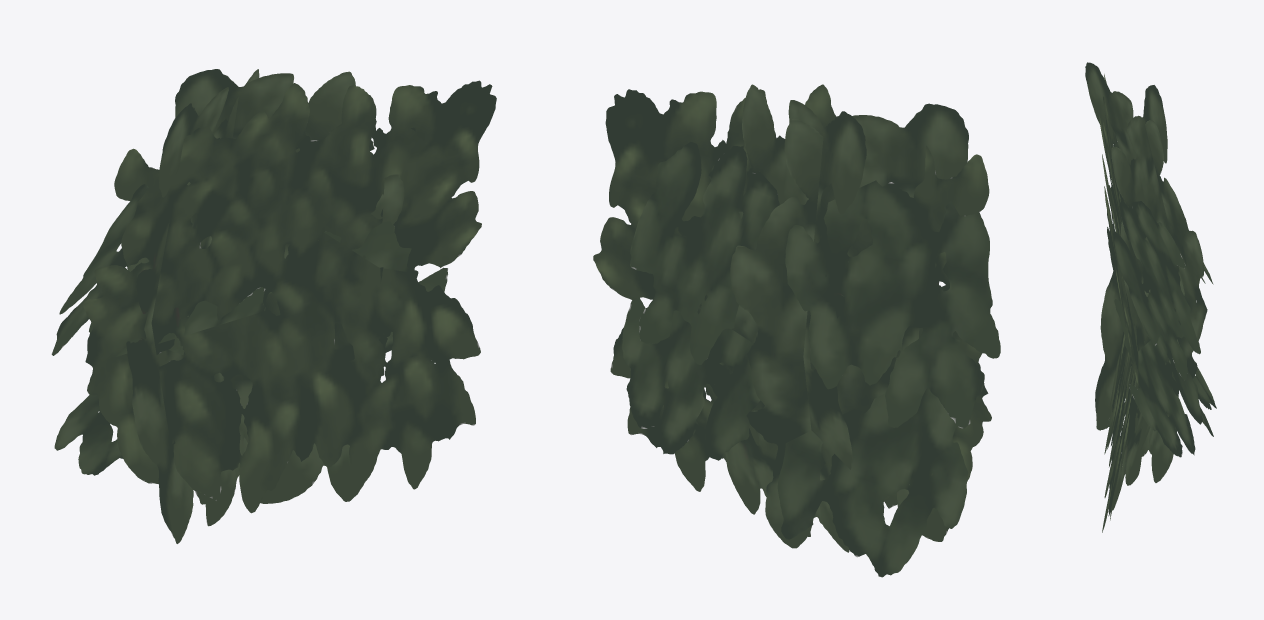
The model's file is ivy-02.fbx.
3 views of the same model, side by side, from view 1: azimuth 30°, elevation 25°; view 2: azimuth 150°, elevation 25°; view 3: azimuth 270°, elevation 25° (orthographic). The views are drawn at different scales.
Parts seen in each view (by area): view 1: ivy_02; view 2: ivy_02; view 3: ivy_02.
Boxes of the visible parts, box(x1,y1,x2,y2) form: ivy_02: box(51, 69, 496, 543); ivy_02: box(593, 84, 1000, 577); ivy_02: box(1085, 62, 1216, 532).
Size of the model in its own units: 200 by 200 by 79.84.
